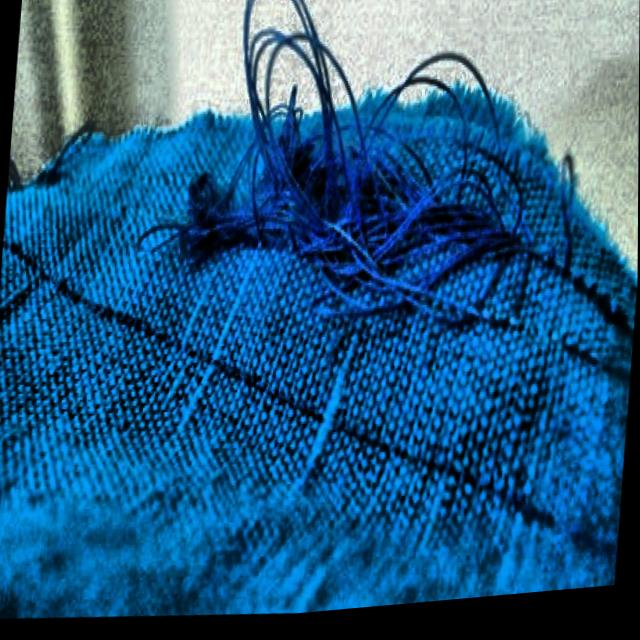Stitch: (137, 0, 600, 354)
